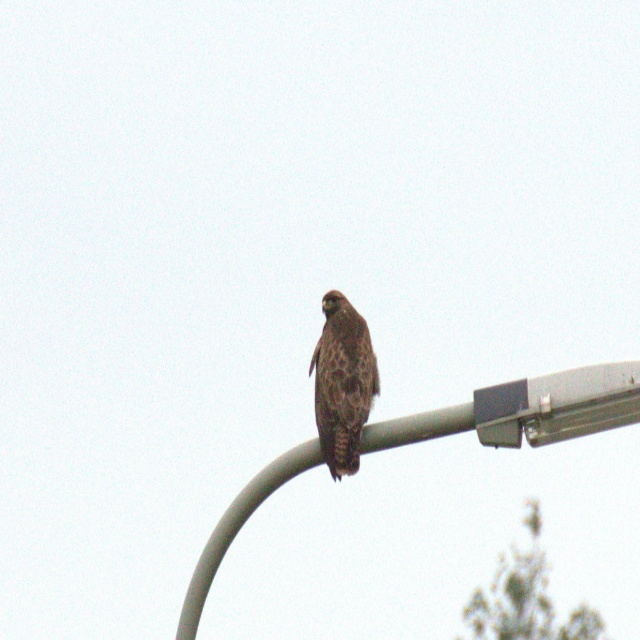Eagle: (302, 288, 384, 489)
